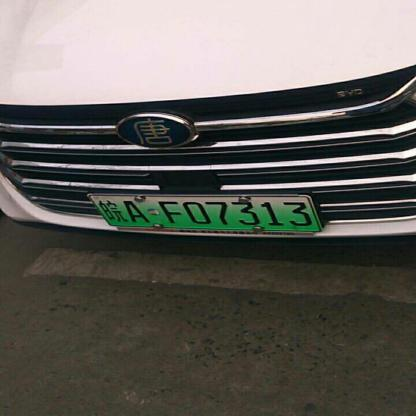lp: (86, 194, 321, 230)
